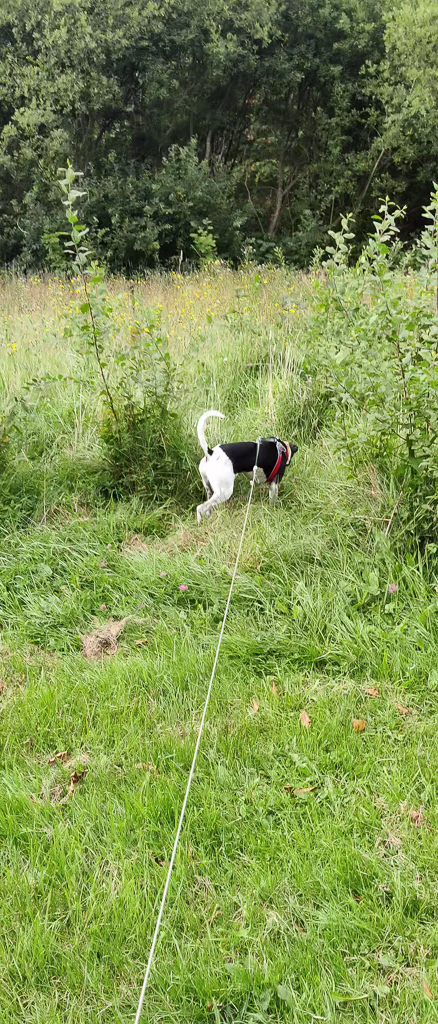Dog: (190, 402, 306, 524)
